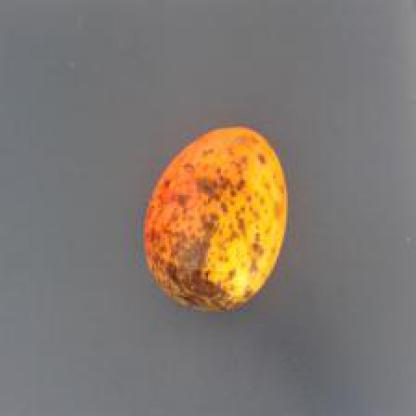mango_rotten: (143, 119, 290, 314)
